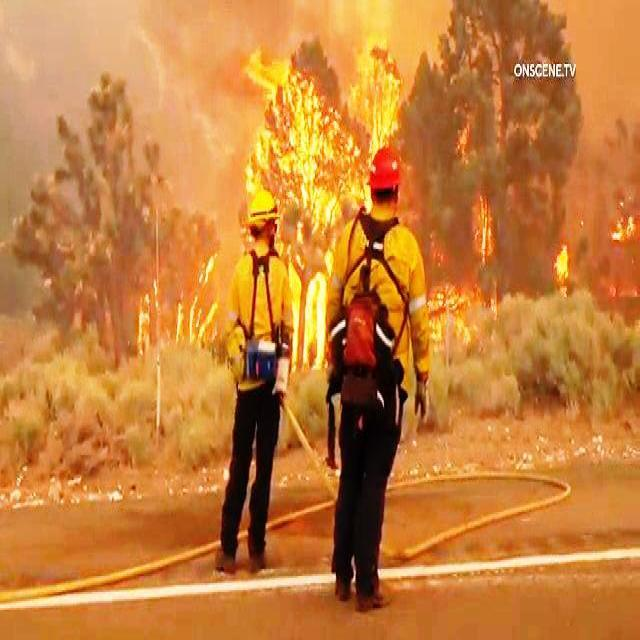Fire: (270, 14, 370, 206)
